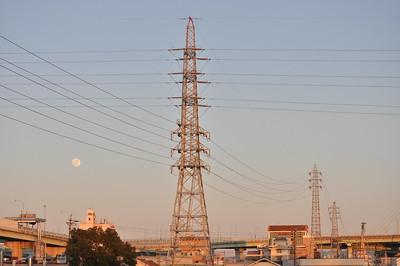power_tower: (165, 11, 216, 266), (304, 162, 323, 242)
